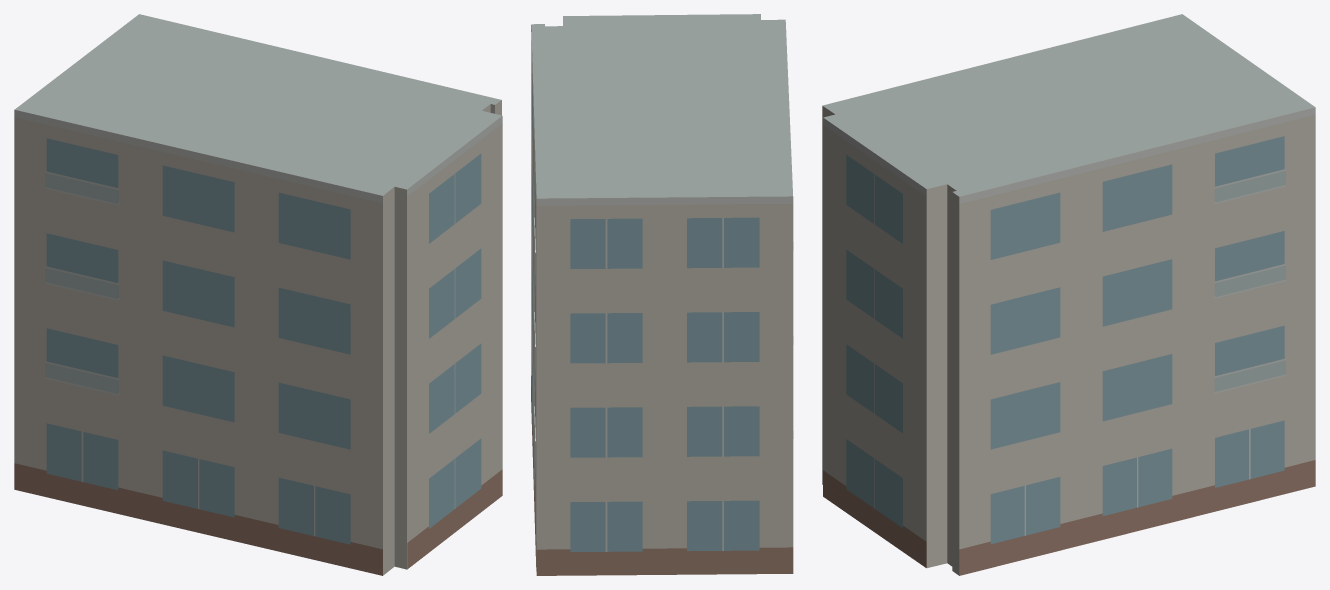
The model's file is survey-upis-32737771.glb.
3 views of the same model, side by side, from view 1: azimuth 30°, elevation 25°; view 2: azimuth 150°, elevation 25°; view 3: azimuth 270°, elevation 25° (orthographic).
Visible parts, largest first — view 1: survey-upis-32737771.tmp; view 2: survey-upis-32737771.tmp; view 3: survey-upis-32737771.tmp.
Boxes of the visible parts, x1=… form: survey-upis-32737771.tmp: x1=14, y1=14, x2=502, y2=575; survey-upis-32737771.tmp: x1=531, y1=14, x2=793, y2=575; survey-upis-32737771.tmp: x1=822, y1=14, x2=1315, y2=575.
Bounding box in the file's own units: 13.15 × 12.7 × 14.99.
